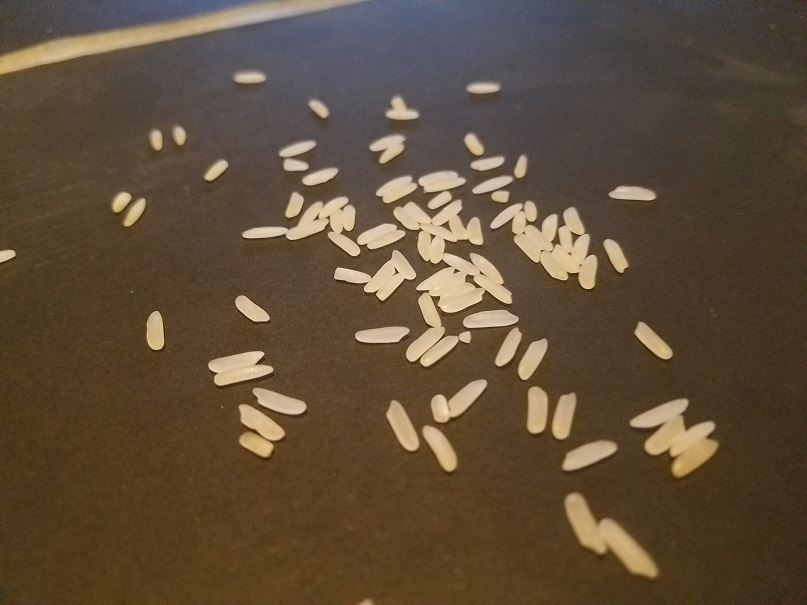egg: (599, 515, 660, 581), (564, 491, 609, 555), (420, 423, 461, 474), (670, 437, 718, 480), (667, 416, 716, 457), (383, 398, 419, 453), (642, 415, 687, 459), (631, 317, 675, 362), (237, 401, 284, 443), (630, 397, 693, 427), (562, 438, 617, 472), (441, 377, 488, 416), (254, 386, 309, 417), (214, 360, 275, 387), (405, 323, 446, 363), (523, 385, 552, 437), (518, 337, 551, 382), (207, 347, 265, 372), (553, 387, 579, 441), (493, 325, 523, 369), (467, 252, 505, 286), (232, 292, 273, 323), (355, 323, 412, 345), (474, 274, 513, 306), (421, 334, 457, 368), (462, 309, 519, 330), (362, 259, 395, 295), (439, 288, 484, 314), (417, 292, 448, 329), (284, 216, 329, 241), (414, 265, 454, 293), (427, 269, 468, 296), (239, 430, 274, 461), (439, 251, 480, 277), (601, 238, 630, 274), (437, 281, 475, 308), (537, 251, 569, 283), (488, 201, 522, 231), (522, 221, 555, 251), (356, 222, 397, 246), (121, 194, 149, 229), (471, 173, 515, 195), (607, 183, 657, 202), (327, 231, 362, 258), (275, 137, 319, 158), (428, 201, 462, 228), (550, 246, 581, 275), (374, 273, 406, 301), (375, 175, 413, 198), (382, 180, 418, 204), (366, 229, 406, 250), (577, 253, 599, 291), (390, 249, 416, 281), (315, 196, 348, 221), (147, 308, 166, 351), (512, 236, 541, 263), (429, 392, 452, 426), (417, 169, 458, 188), (422, 176, 467, 193), (295, 199, 321, 228), (300, 167, 338, 186), (239, 226, 288, 240), (333, 267, 371, 285), (393, 207, 419, 233), (203, 157, 228, 184), (403, 201, 431, 225), (421, 224, 458, 242), (562, 206, 585, 234), (569, 233, 589, 265), (367, 134, 404, 151), (378, 143, 404, 165), (469, 155, 504, 171), (462, 131, 484, 156), (466, 216, 484, 245), (428, 234, 445, 264), (285, 191, 303, 219), (558, 224, 574, 255), (542, 214, 559, 243), (428, 188, 452, 208), (449, 213, 466, 241), (231, 70, 267, 83), (415, 230, 429, 263), (110, 190, 130, 213), (464, 81, 501, 93), (308, 99, 330, 119), (329, 209, 345, 236), (281, 157, 309, 172), (511, 211, 527, 236), (384, 110, 420, 121), (512, 153, 527, 178), (523, 199, 537, 223), (343, 204, 354, 231), (171, 125, 185, 146), (1, 247, 18, 264), (390, 96, 407, 112), (150, 130, 162, 151), (491, 191, 509, 204), (460, 330, 473, 345)
